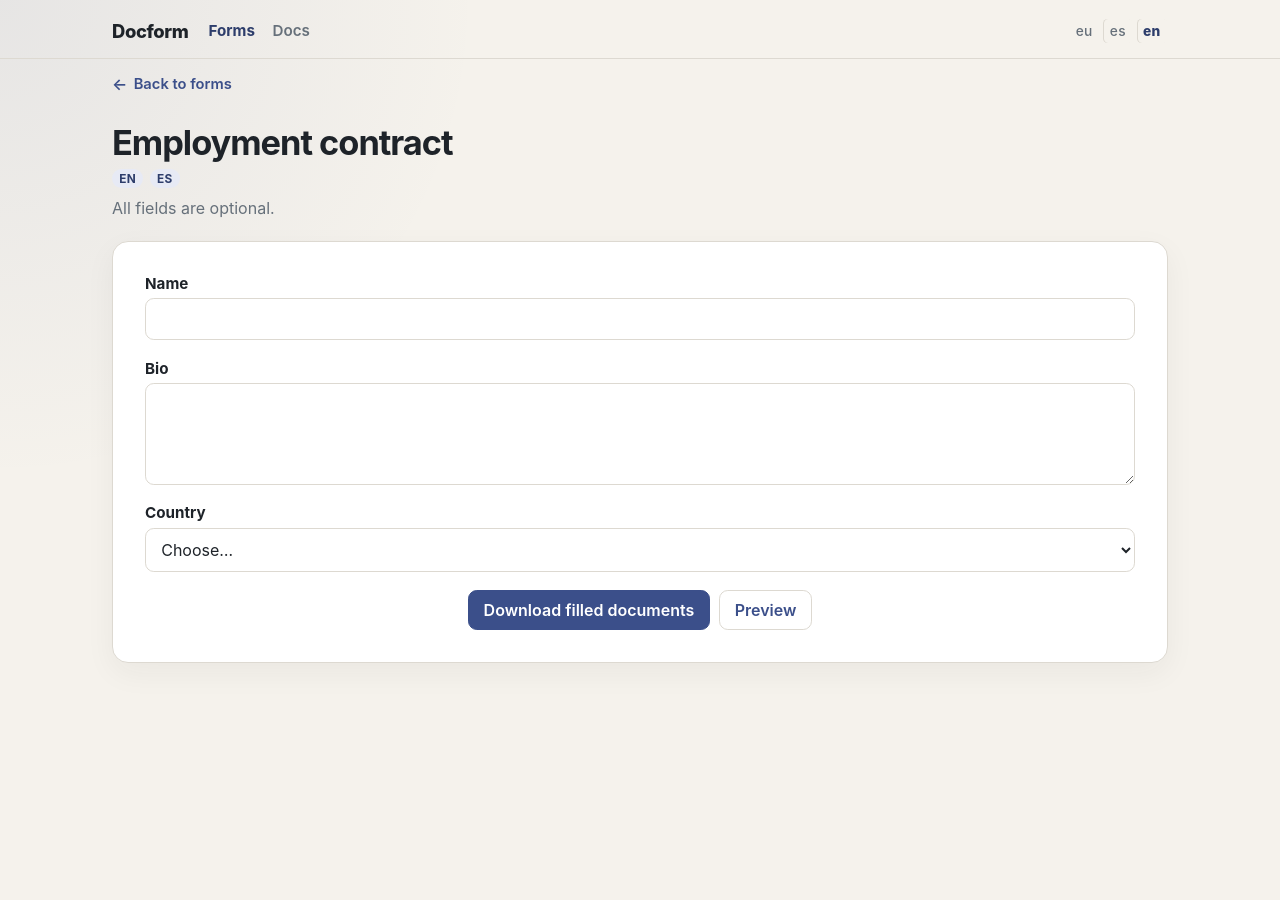
Test case: FormPage › preserves answers when the interface language changes
Type "Ada" into the field labelled "Name" at (640, 319), box [145,298,1135,340]
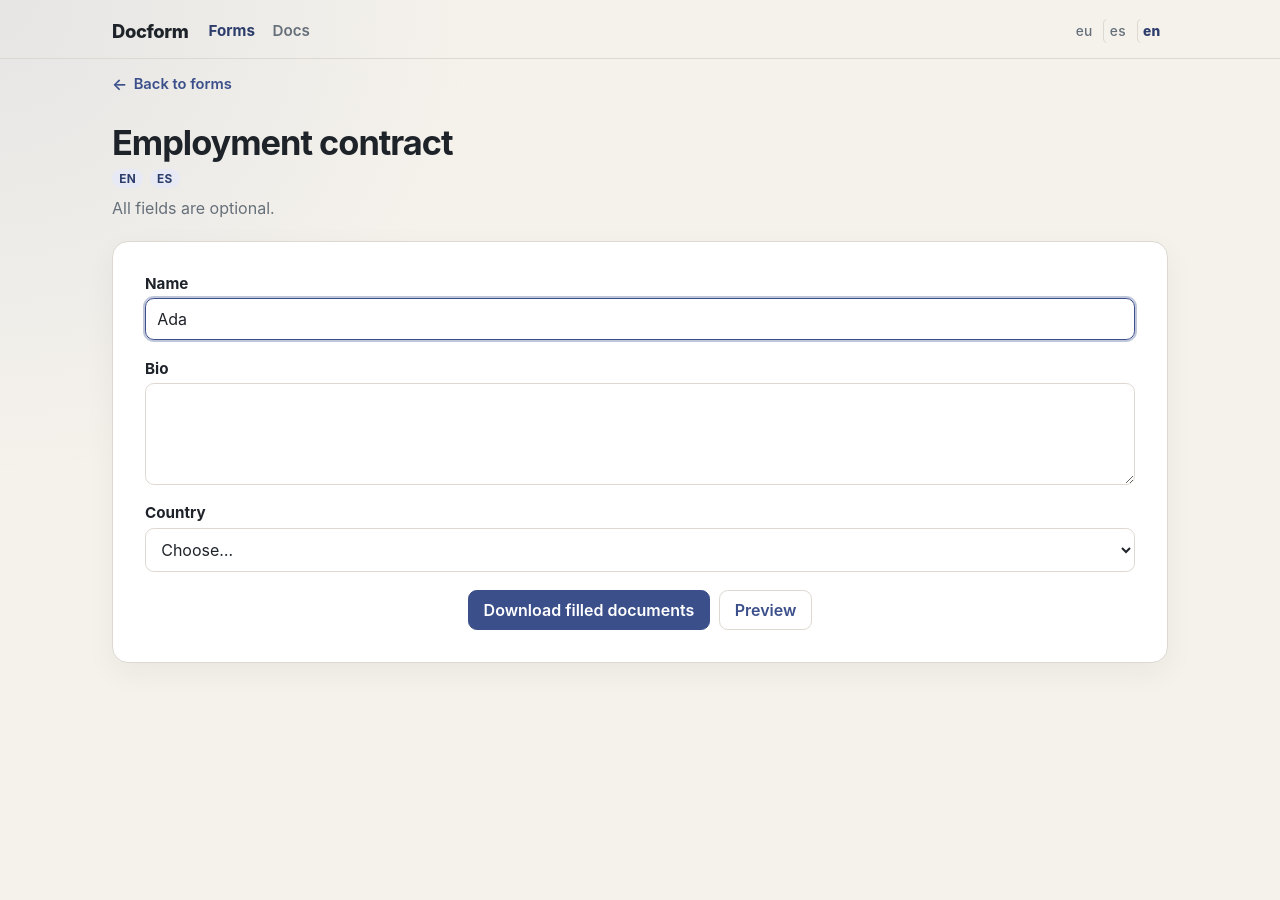
Select "France" in the dropdown labelled "Country" at (640, 550), box [145,528,1135,572]
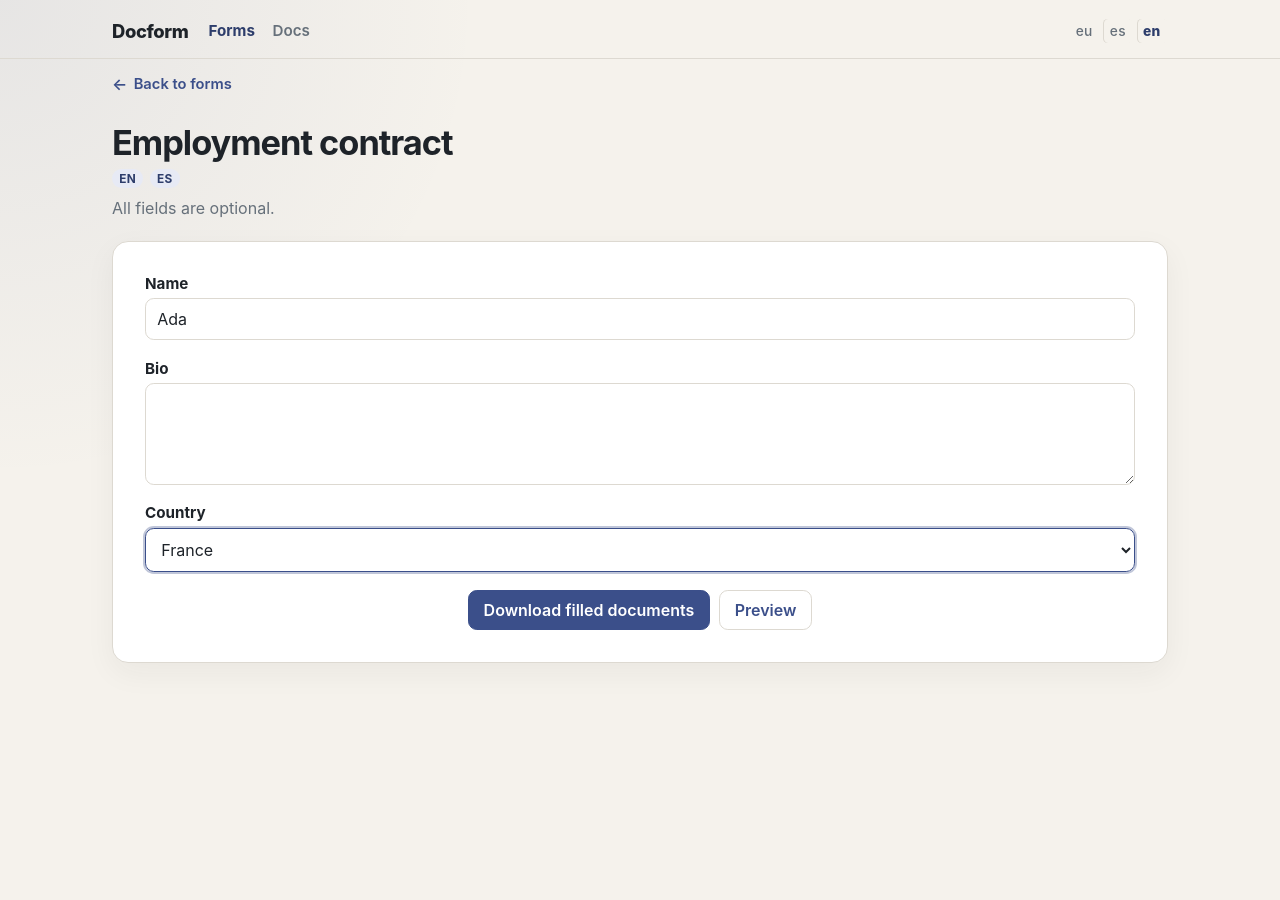
Click the button with aria-label "es — Español" at (1118, 31), box [1102,18,1133,44]
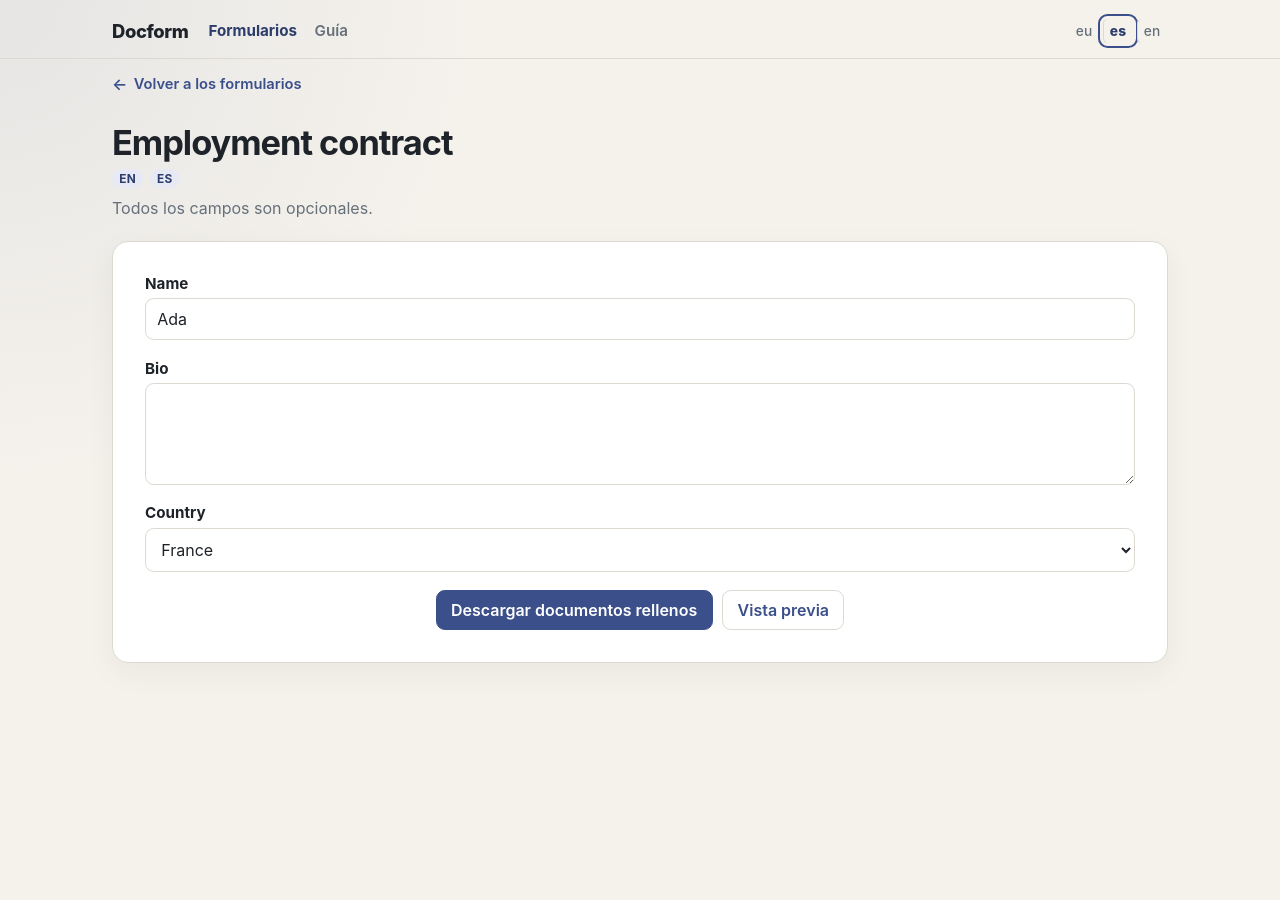
Now the text "Todos los campos son opcionales." is shown, box [112,198,373,218]
